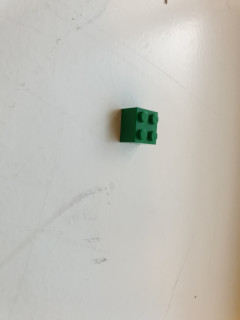2x2 green: (118, 105, 160, 145)
